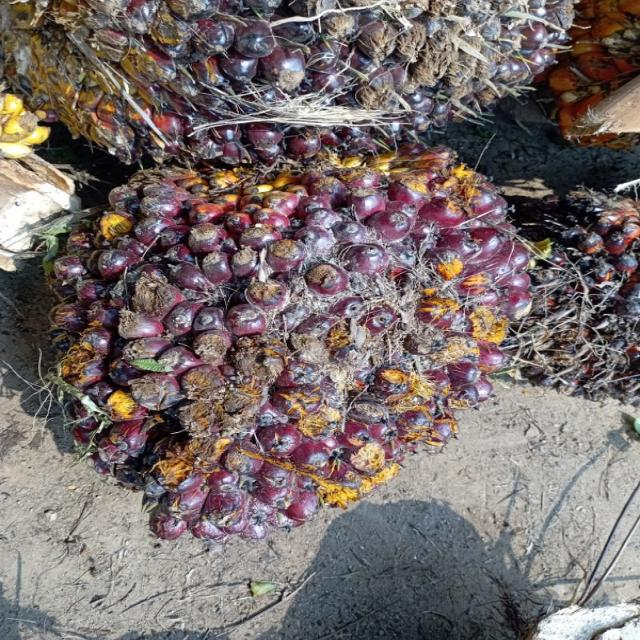fraksi 1: (17, 151, 553, 507)
